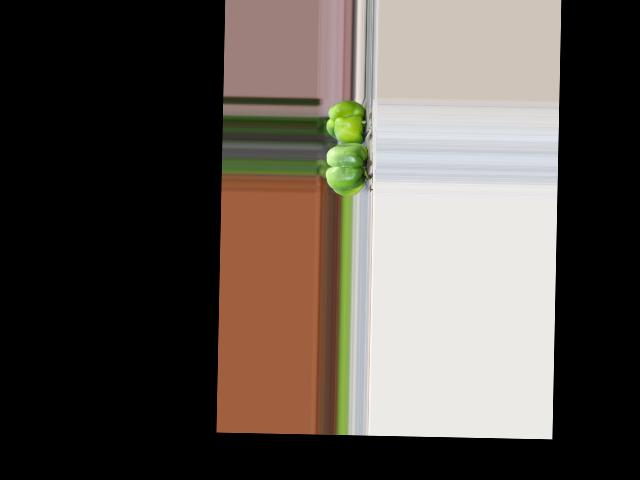bell_pepper: (324, 98, 369, 144)
